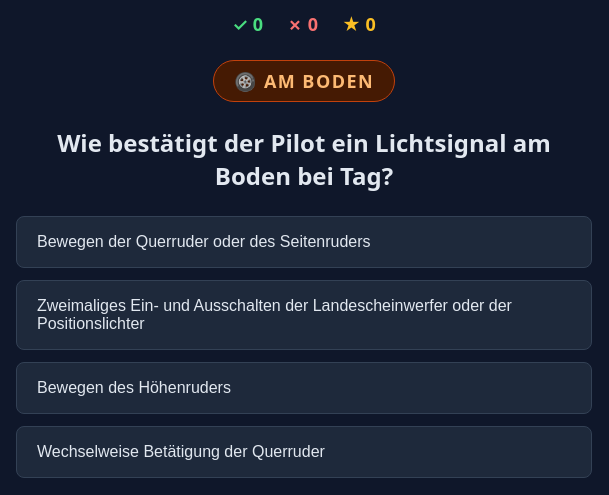
Scenario: /+page.svelte › shows result after clicking an answer
Click the button "Bewegen der Querruder oder des Seitenruders".
click(304, 242)  # box [16,216,592,268]
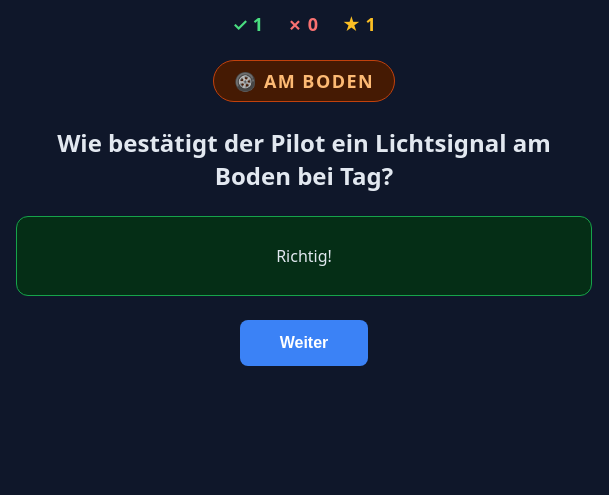
Expected: the element with test id "result" is shown, [16,216,592,296]
